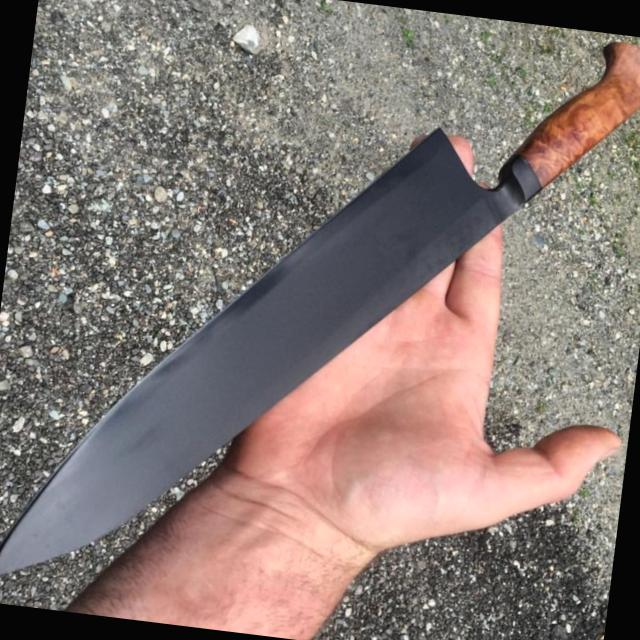knife: (0, 149, 523, 639)
